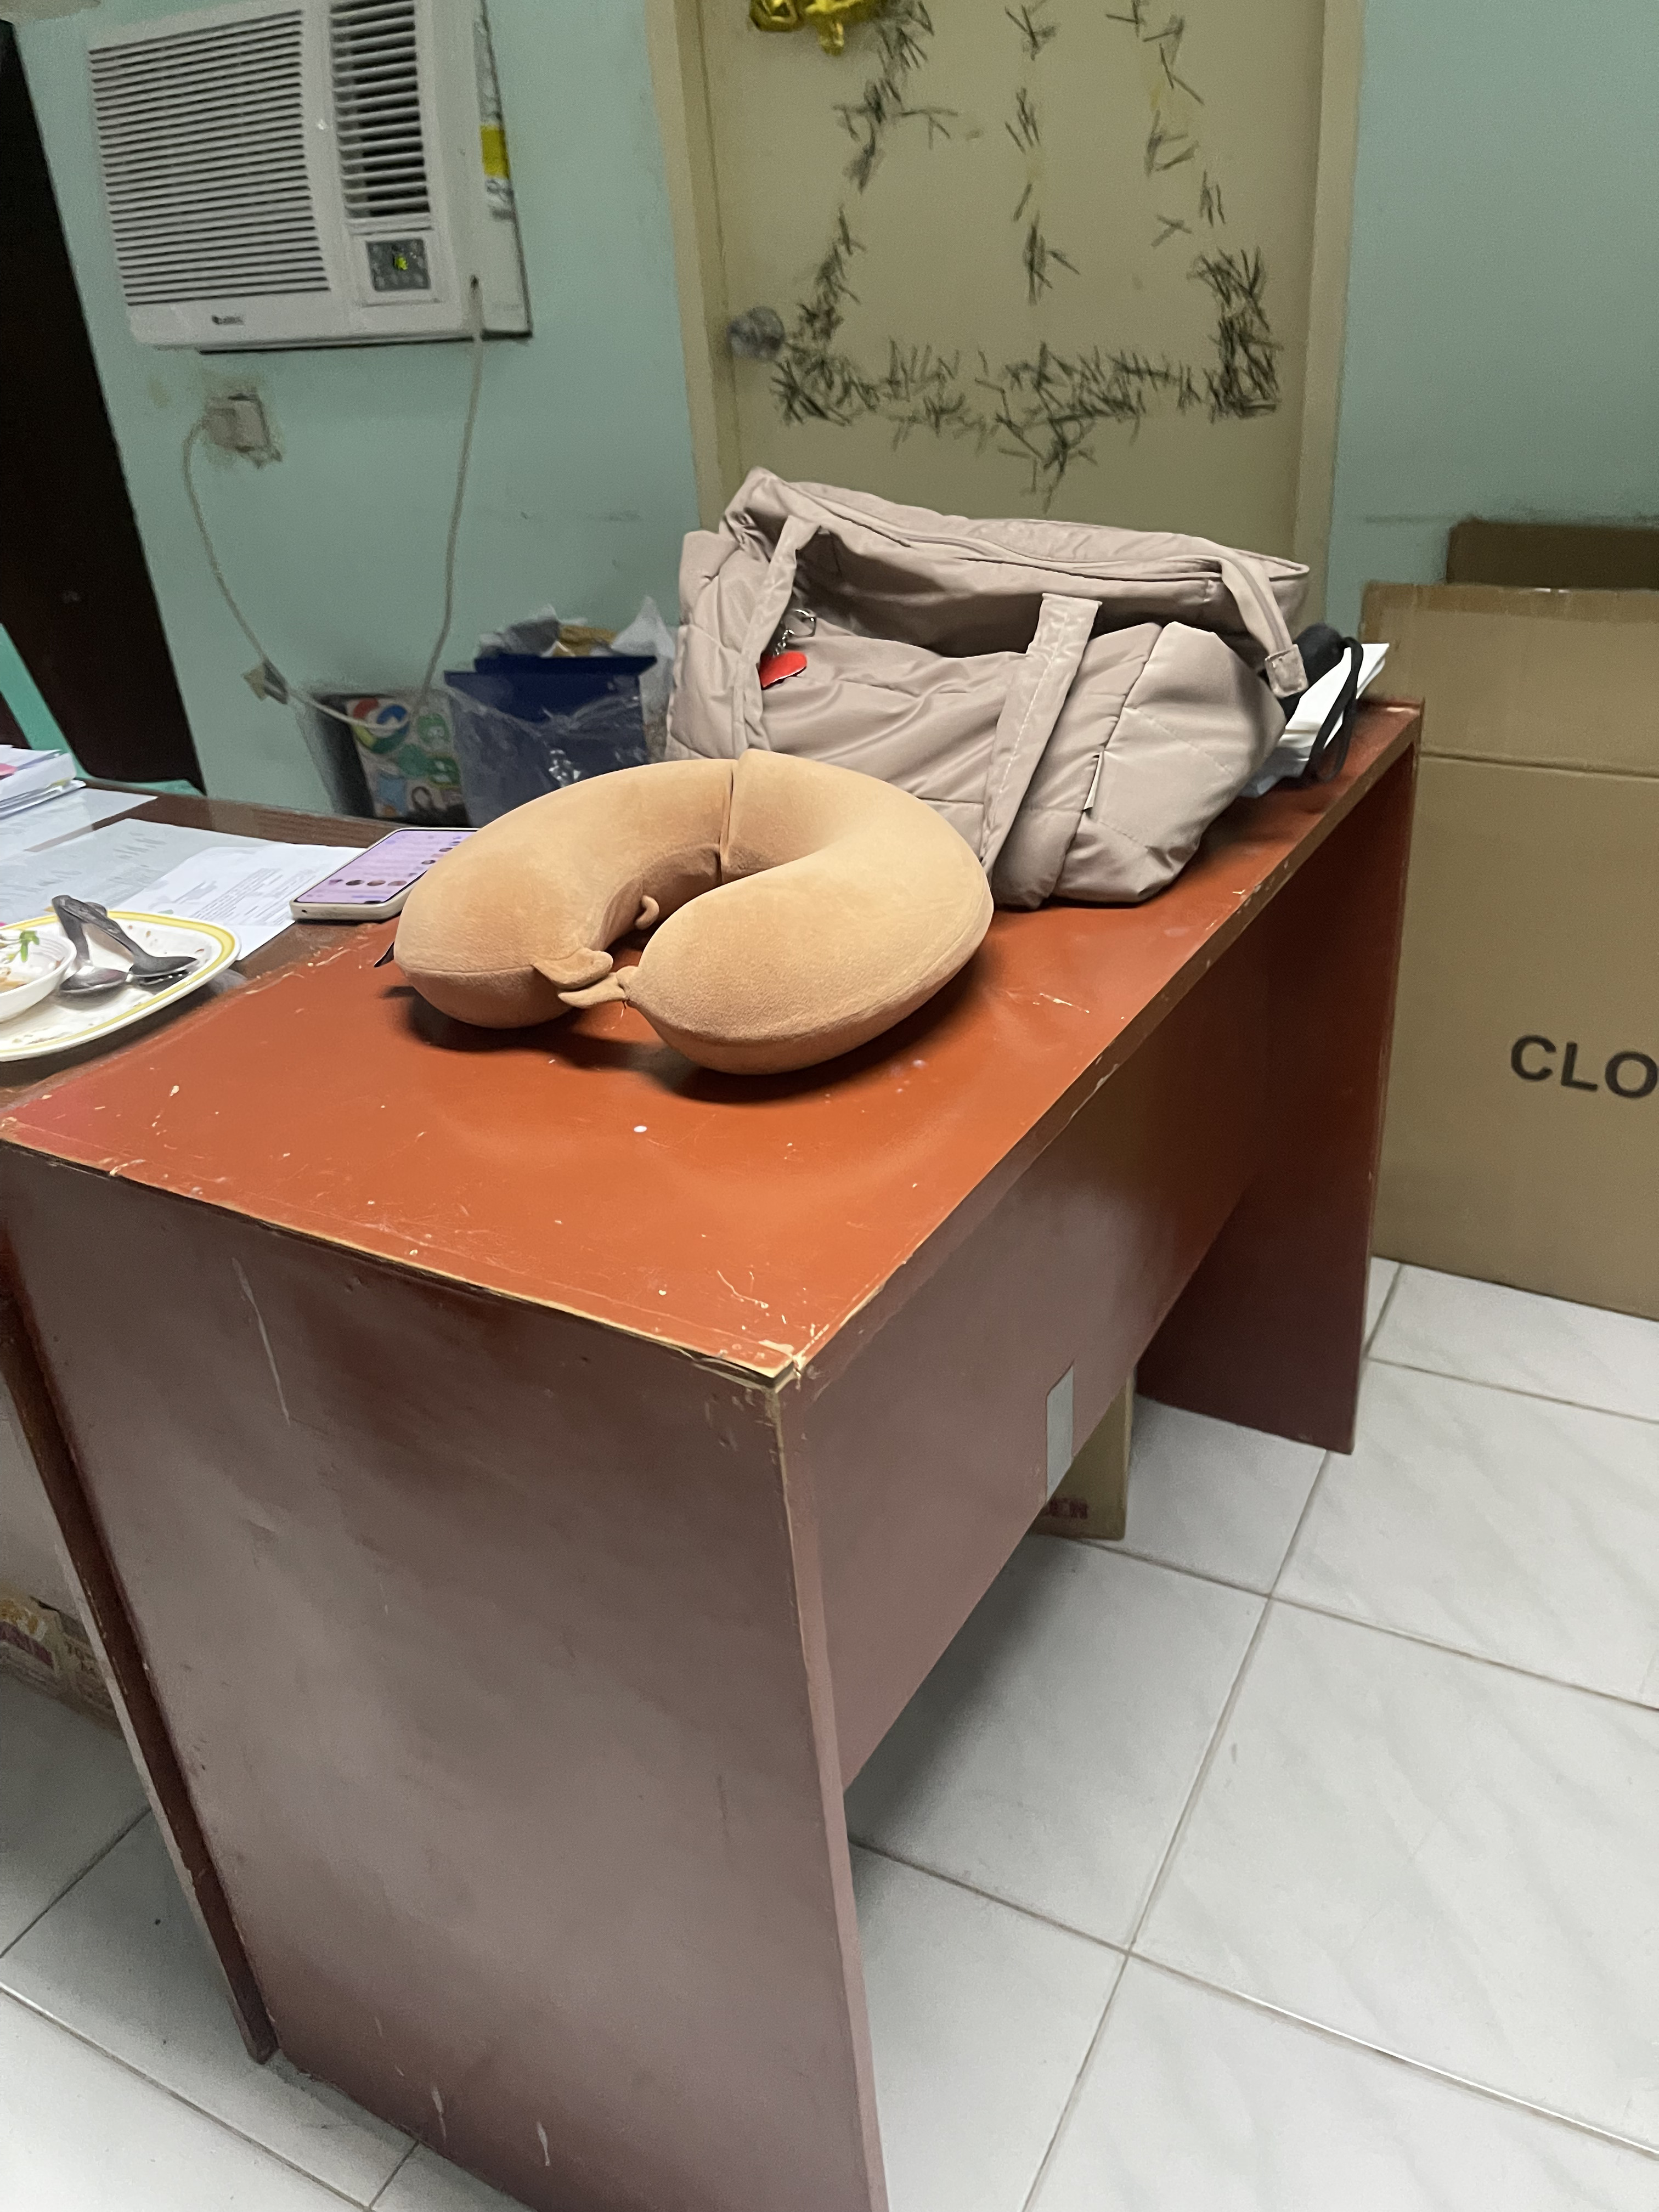table2: (7, 737, 1408, 2212)
